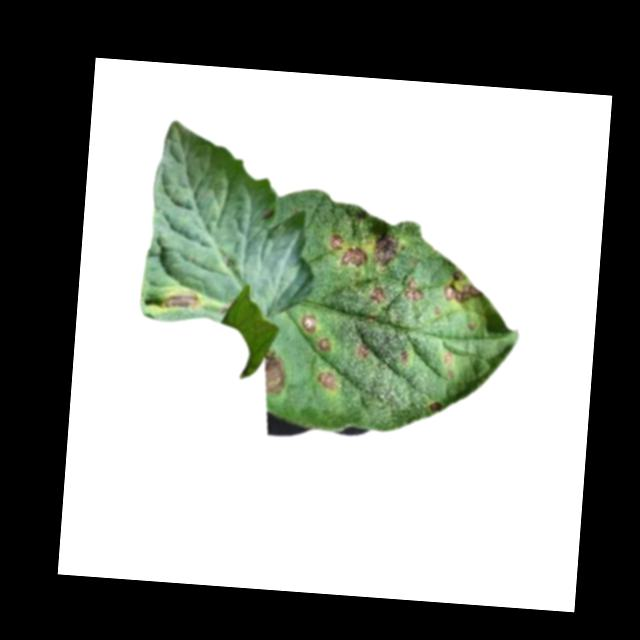Early_blight: (441, 266, 485, 306), (157, 283, 200, 317), (261, 349, 289, 397), (370, 231, 404, 270), (340, 242, 369, 267), (403, 276, 423, 303), (313, 370, 338, 391), (299, 309, 319, 333), (369, 282, 389, 304), (425, 396, 443, 414), (326, 233, 343, 251), (355, 343, 370, 359), (317, 337, 333, 351), (397, 348, 410, 365), (442, 350, 455, 366)
